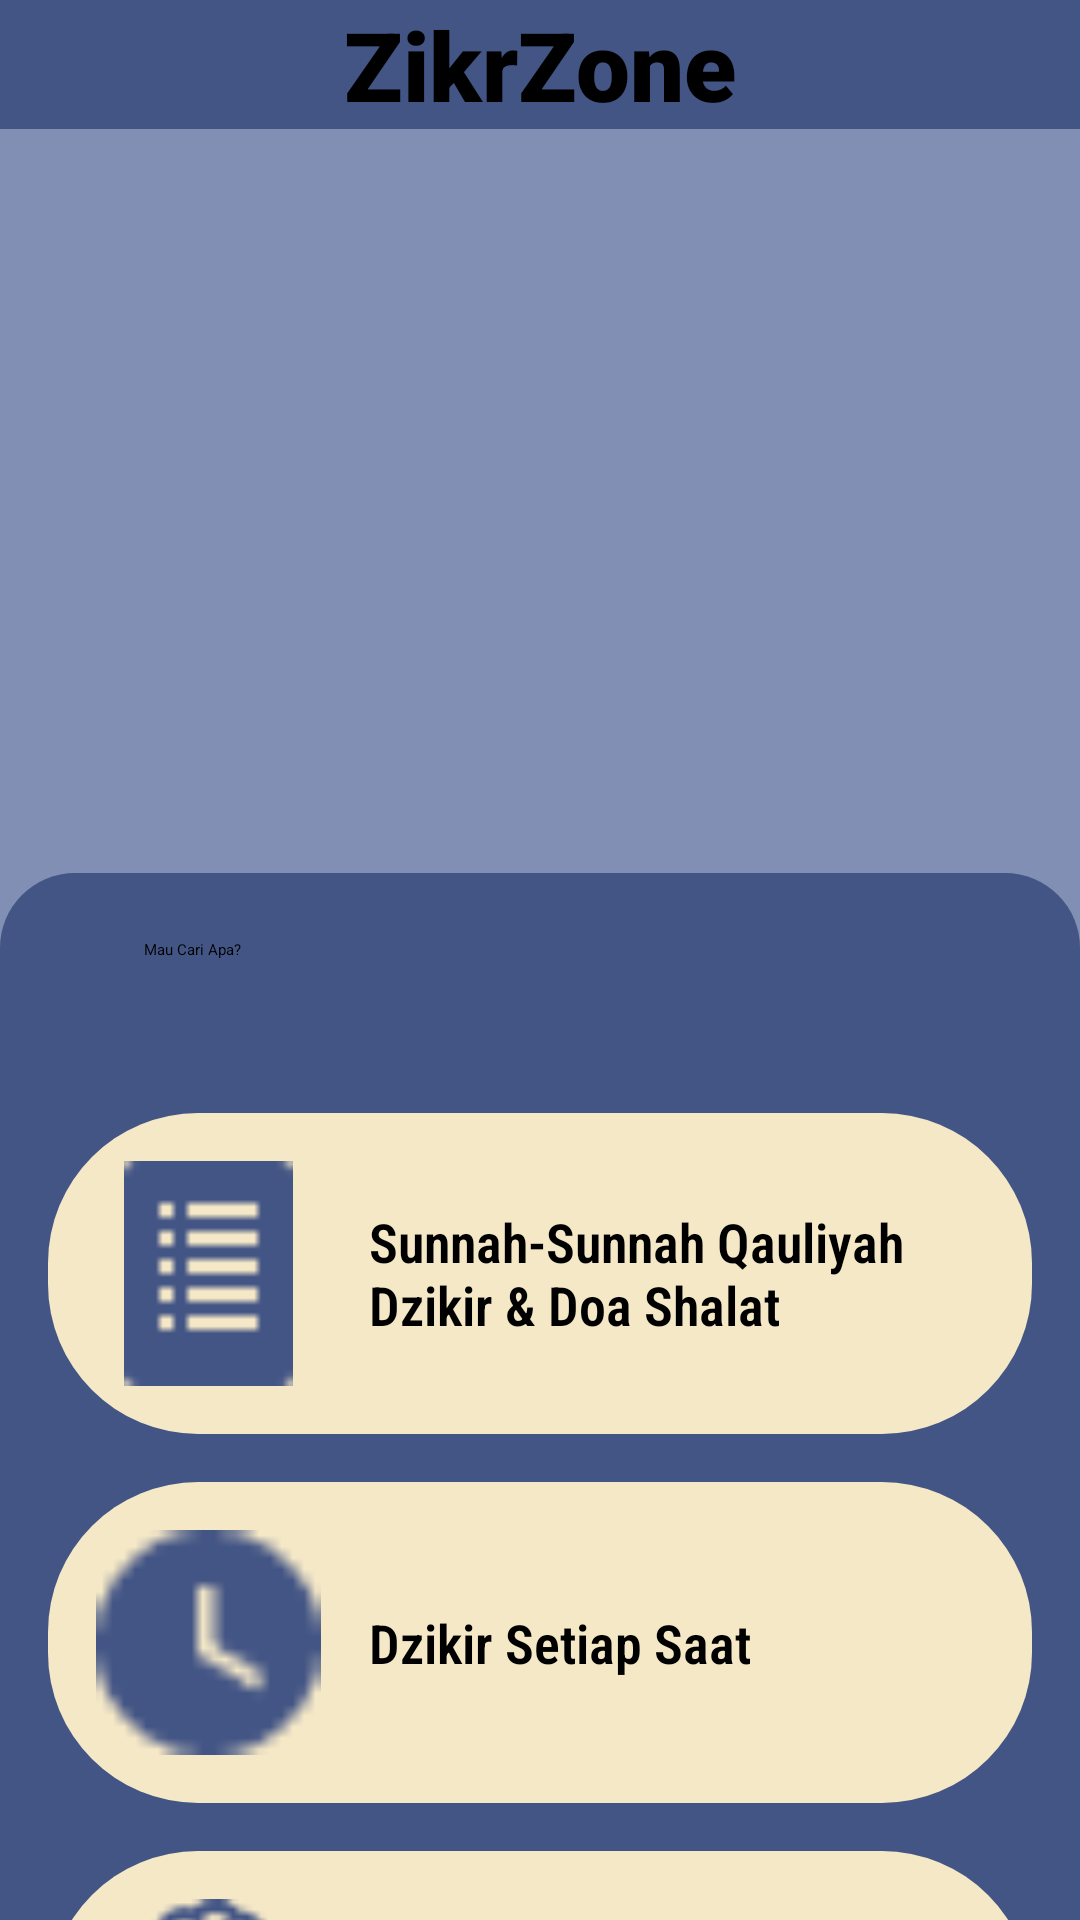

Point at icon controls on the screen. Image size 1080px×1920px, points as point (x, y).
time: point (208, 1642)
